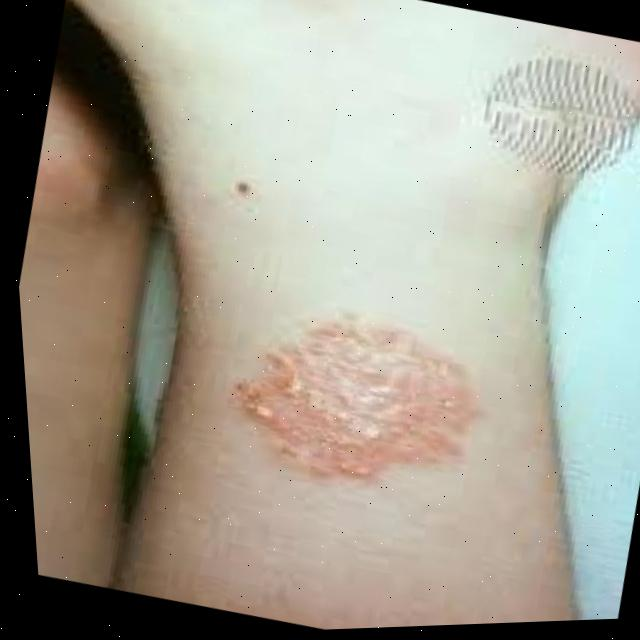Eczema: (207, 263, 513, 520)
